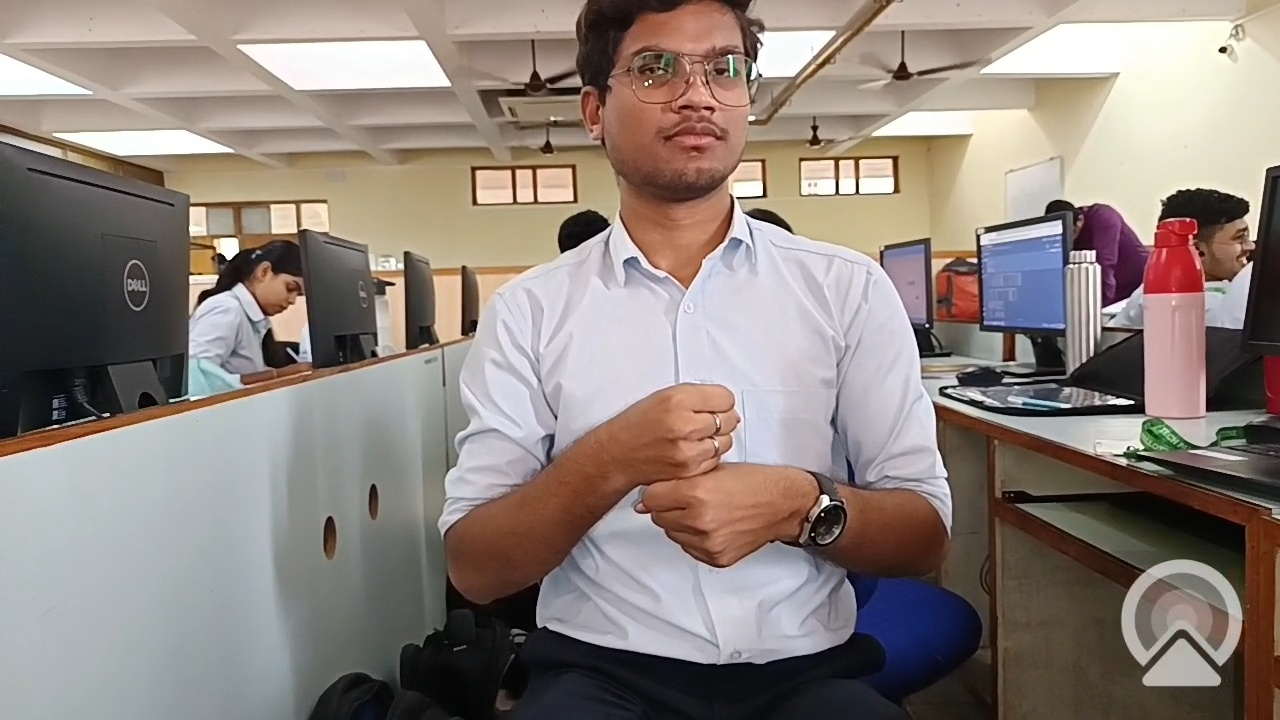G: (596, 362, 869, 585)
